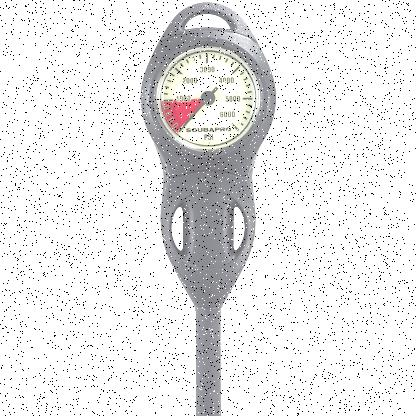needle: (178, 103, 205, 132)
